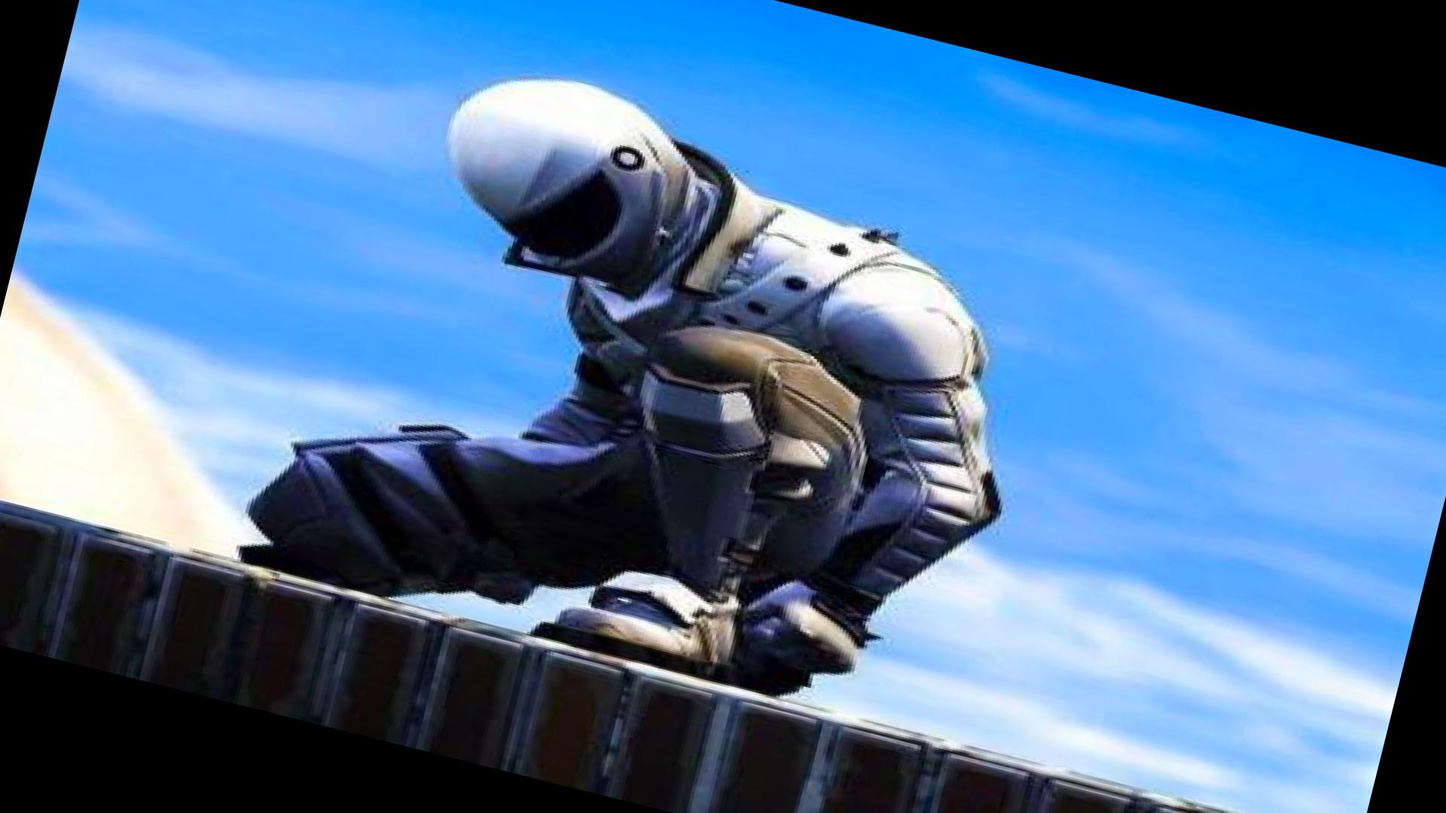player: (265, 22, 958, 735)
